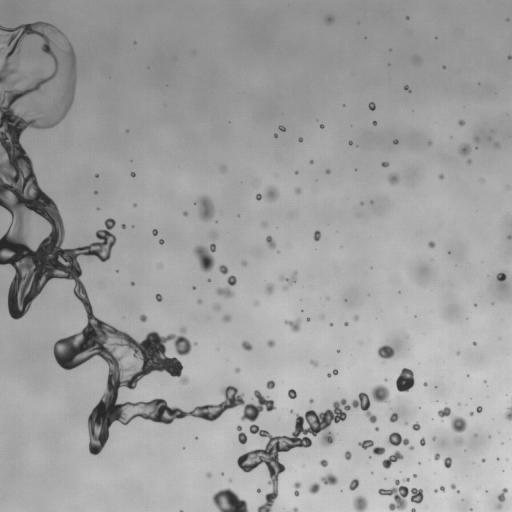droplet: (378, 479, 423, 511), (212, 488, 249, 511), (194, 243, 215, 271), (196, 195, 215, 221), (396, 368, 414, 391), (385, 432, 409, 446), (256, 186, 278, 201), (377, 345, 394, 360), (353, 495, 368, 511), (284, 318, 301, 332), (280, 271, 297, 284), (321, 473, 337, 485), (216, 287, 234, 297), (459, 143, 470, 155), (388, 173, 399, 184), (308, 483, 319, 494), (349, 478, 359, 490), (266, 236, 275, 248), (227, 275, 236, 286), (265, 283, 274, 294), (241, 341, 252, 350), (496, 272, 506, 281), (219, 265, 228, 274), (266, 380, 275, 389), (288, 389, 297, 398), (389, 413, 398, 422), (444, 457, 451, 468), (314, 230, 320, 241), (412, 422, 420, 430), (325, 16, 333, 23), (155, 293, 162, 301), (267, 340, 275, 347), (455, 437, 463, 444), (319, 459, 327, 466), (223, 315, 230, 322), (369, 102, 375, 110), (345, 451, 351, 459), (278, 125, 285, 131), (428, 241, 435, 247), (140, 314, 146, 321), (310, 360, 317, 366), (476, 406, 482, 413), (381, 162, 389, 167), (420, 437, 425, 445), (210, 232, 216, 238), (434, 453, 439, 460), (414, 57, 420, 62), (458, 120, 464, 125), (152, 229, 157, 235), (214, 304, 219, 310), (206, 472, 211, 478), (438, 174, 443, 179), (295, 188, 300, 193), (241, 260, 246, 265), (439, 486, 444, 491), (403, 477, 409, 481), (292, 507, 298, 511), (393, 140, 398, 144), (221, 166, 225, 171), (131, 172, 135, 177), (183, 211, 187, 216), (261, 222, 266, 226), (159, 239, 163, 244), (354, 315, 358, 320), (451, 484, 455, 489), (320, 124, 324, 128), (298, 137, 302, 141), (467, 159, 471, 163), (326, 169, 330, 173), (121, 224, 125, 228), (197, 299, 201, 303), (472, 341, 476, 345), (235, 368, 239, 372), (409, 446, 413, 450), (481, 458, 485, 462), (373, 121, 376, 125), (475, 137, 478, 141), (348, 141, 352, 144), (495, 143, 498, 147), (508, 235, 511, 239), (284, 286, 287, 290), (254, 302, 258, 305), (344, 322, 348, 325), (309, 399, 313, 402), (375, 427, 378, 431), (411, 508, 415, 511), (508, 56, 511, 59), (274, 134, 277, 137), (310, 160, 313, 163), (95, 174, 98, 177), (94, 191, 97, 194), (131, 282, 134, 285), (456, 351, 459, 354), (413, 474, 416, 477), (257, 489, 260, 492), (306, 318, 310, 320), (406, 16, 408, 19), (22, 75, 24, 78), (428, 142, 431, 144), (295, 171, 297, 174), (133, 204, 136, 206), (158, 264, 161, 266), (193, 286, 195, 289), (330, 323, 332, 326), (337, 350, 340, 352), (424, 383, 427, 385), (470, 412, 472, 415), (432, 437, 435, 439), (443, 66, 445, 68), (370, 201, 372, 203), (194, 342, 196, 344), (475, 434, 477, 436)
ligament: (0, 25, 388, 511), (437, 406, 466, 433), (358, 440, 385, 455), (382, 451, 403, 468), (496, 488, 507, 509), (236, 425, 247, 444), (294, 482, 301, 495), (505, 406, 511, 420), (327, 369, 337, 377), (404, 85, 410, 91)
